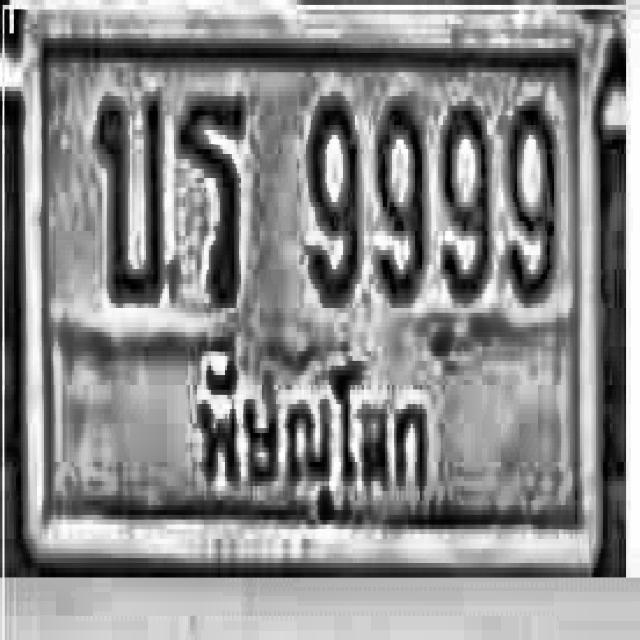license-plate: (18, 3, 608, 579)
